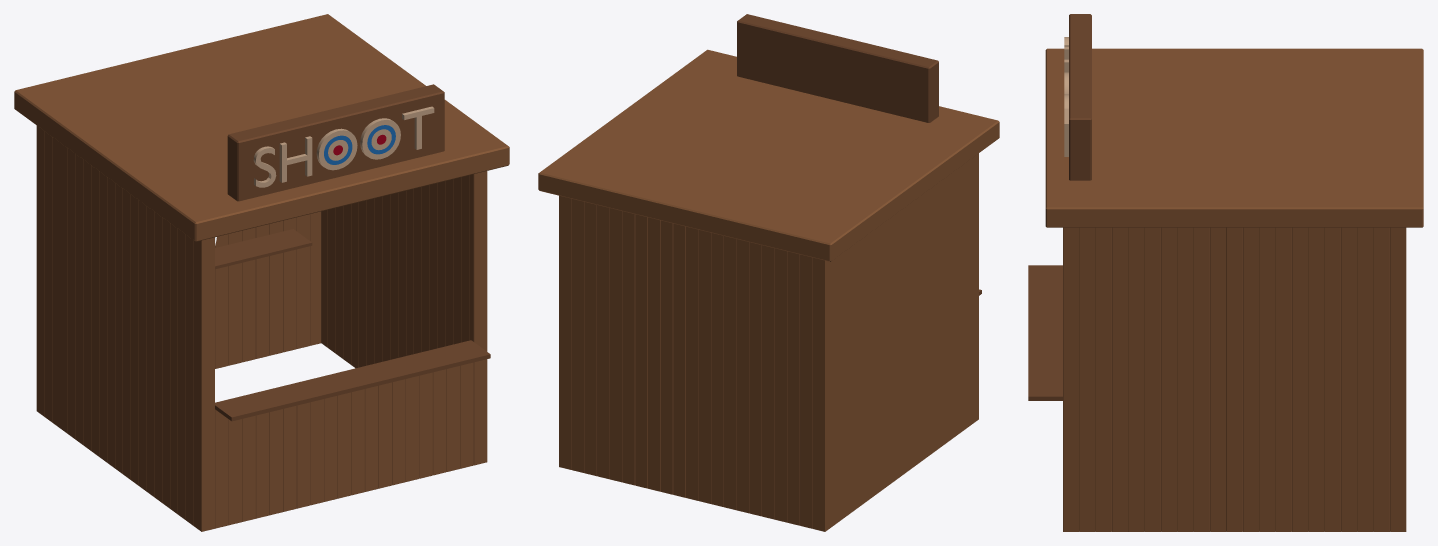
Rendered from Shoot.fbx.
3 views of the same model, side by side, from view 1: azimuth 30°, elevation 25°; view 2: azimuth 150°, elevation 25°; view 3: azimuth 270°, elevation 25° (orthographic). The views are drawn at different scales.
Visible parts, largest first — view 1: Shoot; view 2: Shoot; view 3: Shoot.
Boxes of the visible parts, <box> form: Shoot: <box>14,14,509,531</box>; Shoot: <box>538,14,999,531</box>; Shoot: <box>1028,14,1423,531</box>.
Size of the model in its own units: 330 by 379 by 345.
